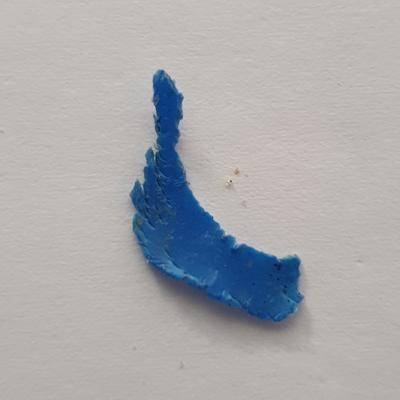plastic: (123, 67, 312, 332)
